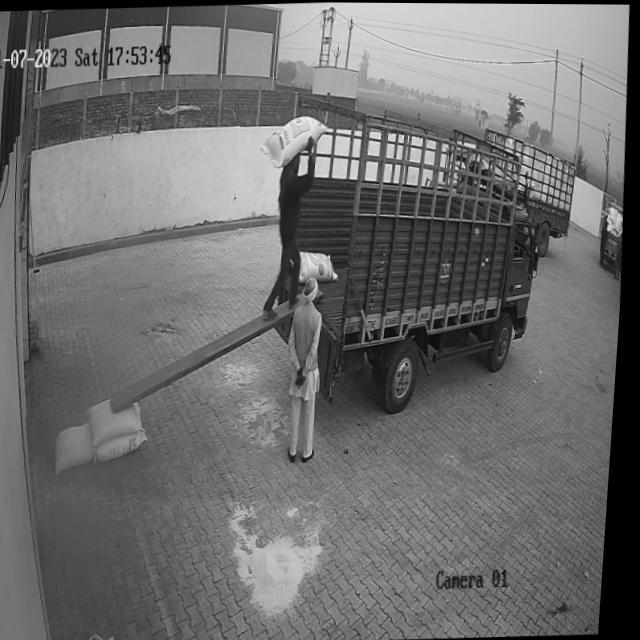sack: (260, 114, 331, 170), (90, 397, 149, 444), (59, 420, 102, 472), (100, 427, 153, 462), (301, 247, 344, 283)
